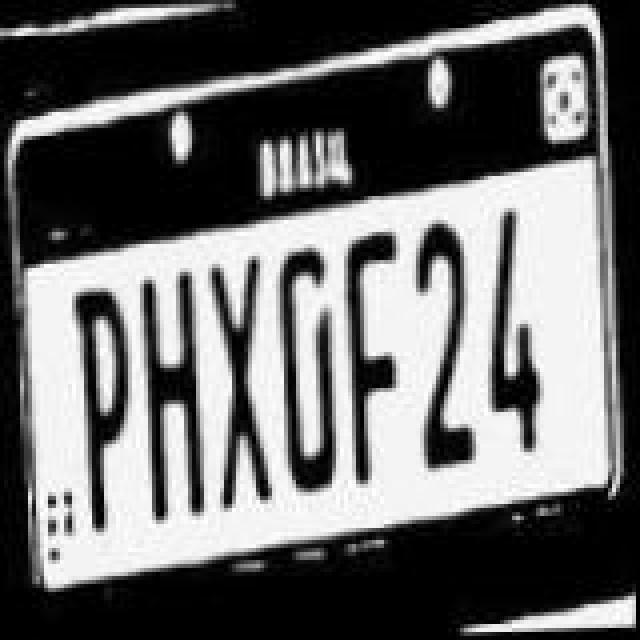2: (406, 212, 482, 480)
4: (476, 206, 544, 458)
D: (268, 236, 340, 496)
F: (340, 224, 404, 488)
H: (138, 264, 214, 524)
P: (64, 280, 136, 536)
X: (204, 246, 276, 514)
